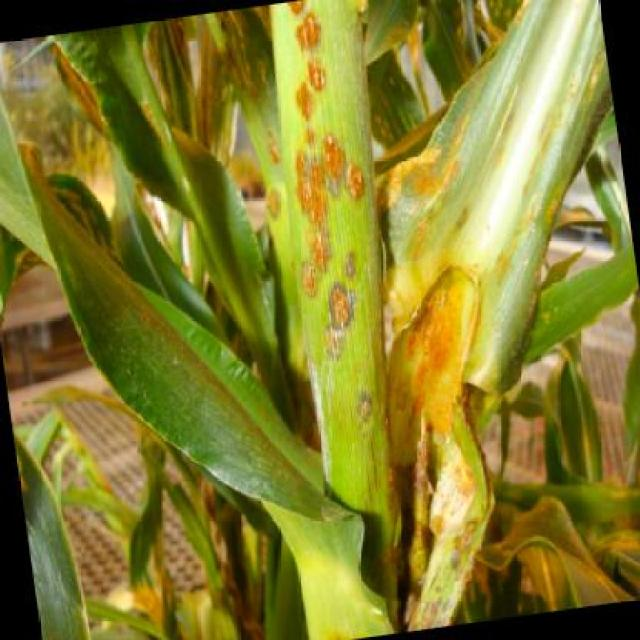Corn_Rust: (255, 11, 396, 429)
